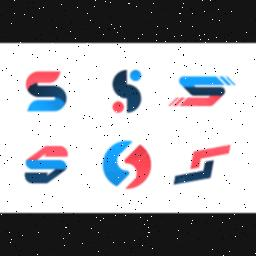s: (18, 65, 76, 119)
